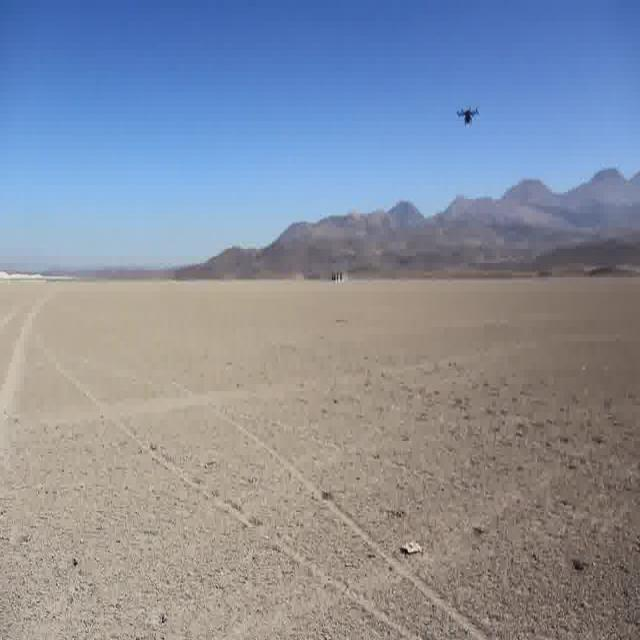drones: (451, 94, 484, 138)
